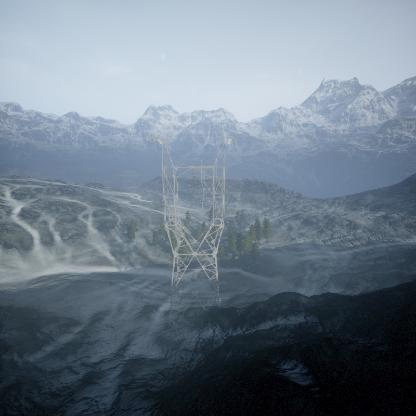tower: (152, 135, 239, 319)
